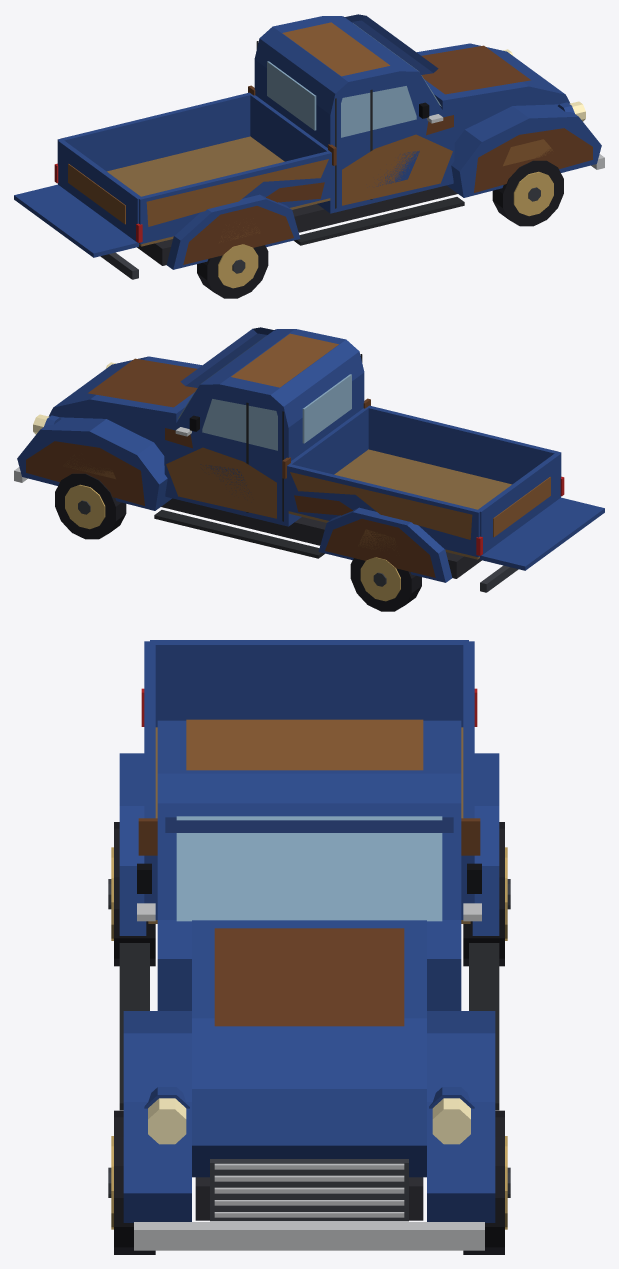
File: rusty_truck.glb
3 views of the same model, one above another, from view 1: azimuth 30°, elevation 25°; view 2: azimuth 150°, elevation 25°; view 3: azimuth 270°, elevation 25° (orthographic). The views are drawn at different scales.
Visible parts, largest first — view 1: Body, TailgateDown, TailgateUp; view 2: Body, TailgateDown, TailgateUp; view 3: Body, TailgateUp.
Part boxes in pixels (x1=…): Body: x1=54, y1=14, x2=604, y2=298; TailgateDown: x1=14, y1=184, x2=138, y2=257; TailgateUp: x1=58, y1=139, x2=140, y2=242; Body: x1=14, y1=327, x2=564, y2=611; TailgateDown: x1=480, y1=497, x2=604, y2=570; TailgateUp: x1=478, y1=452, x2=560, y2=555; Body: x1=108, y1=641, x2=510, y2=1254; TailgateUp: x1=150, y1=640, x2=468, y2=727.
Bounding box in the file's own units: 6.17 × 2.09 × 2.12.
